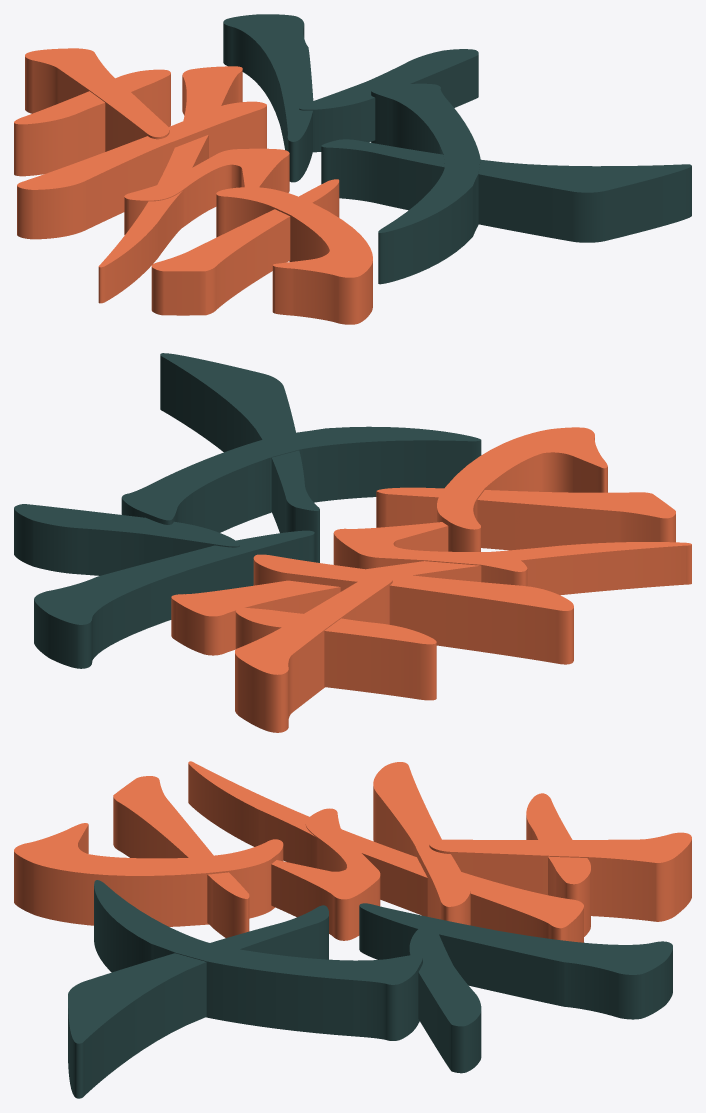
Rendered from hanzi153.fbx.
3 renders of one model, top to bottom at view 1: azimuth 30°, elevation 25°; view 2: azimuth 150°, elevation 25°; view 3: azimuth 270°, elevation 25°, orthographic. The views are drawn at different scales.
Parts seen in each view (by area): view 1: Curve.010, Curve.009, Curve.002, Curve.005, Curve.006, Curve.007, Curve.003, Curve, Curve.001, Curve.008, Curve.004; view 2: Curve.009, Curve.003, Curve.007, Curve.002, Curve.006, Curve.010, Curve.001, Curve.008, Curve.005, Curve, Curve.004; view 3: Curve.009, Curve.007, Curve.010, Curve.005, Curve.003, Curve.001, Curve.004, Curve.006, Curve.002, Curve.008, Curve.
Boxes of the visible parts, x1,y1,x2,y2 form: Curve.010: [321, 139, 691, 242]; Curve.009: [371, 83, 480, 284]; Curve.002: [17, 101, 266, 239]; Curve.005: [216, 187, 372, 324]; Curve.006: [151, 179, 339, 315]; Curve.007: [223, 14, 313, 182]; Curve.003: [98, 66, 242, 303]; Curve: [14, 69, 170, 176]; Curve.001: [25, 48, 169, 151]; Curve.008: [299, 49, 478, 152]; Curve.004: [124, 148, 289, 234]; Curve.009: [121, 426, 481, 532]; Curve.003: [171, 542, 691, 655]; Curve.007: [34, 530, 314, 668]; Curve.002: [253, 554, 573, 664]; Curve.006: [376, 487, 675, 550]; Curve.010: [160, 353, 319, 562]; Curve.001: [235, 575, 392, 732]; Curve.008: [14, 504, 239, 575]; Curve.005: [437, 427, 607, 551]; Curve: [235, 608, 436, 700]; Curve.004: [333, 522, 527, 586]; Curve.009: [94, 880, 422, 1040]; Curve.007: [359, 903, 672, 1019]; Curve.010: [68, 905, 328, 1098]; Curve.005: [14, 823, 283, 926]; Curve.003: [188, 761, 583, 942]; Curve.001: [429, 832, 691, 921]; Curve.004: [271, 808, 380, 940]; Curve.006: [113, 776, 249, 937]; Curve.002: [373, 762, 470, 925]; Curve.008: [409, 923, 481, 1073]; Curve: [526, 793, 590, 936].
Size of the model in its own units: 25.12 by 24.83 by 2.38.
